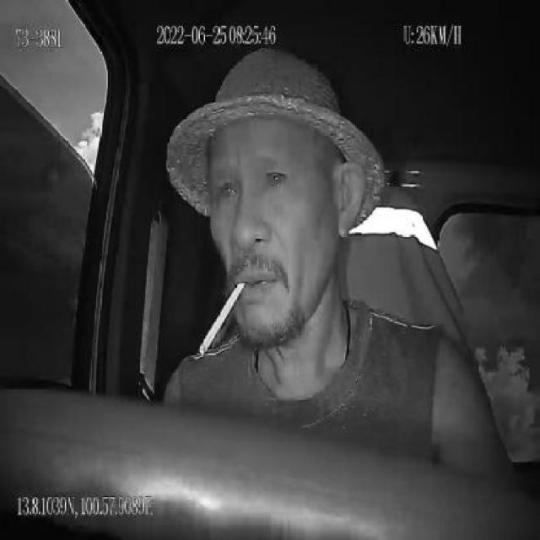smoking: (199, 283, 245, 357)
